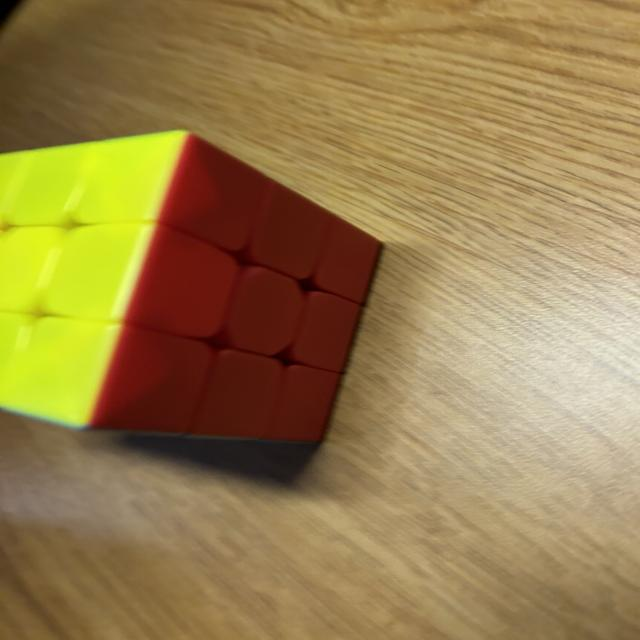Rubiks Cube: (0, 129, 381, 448)
